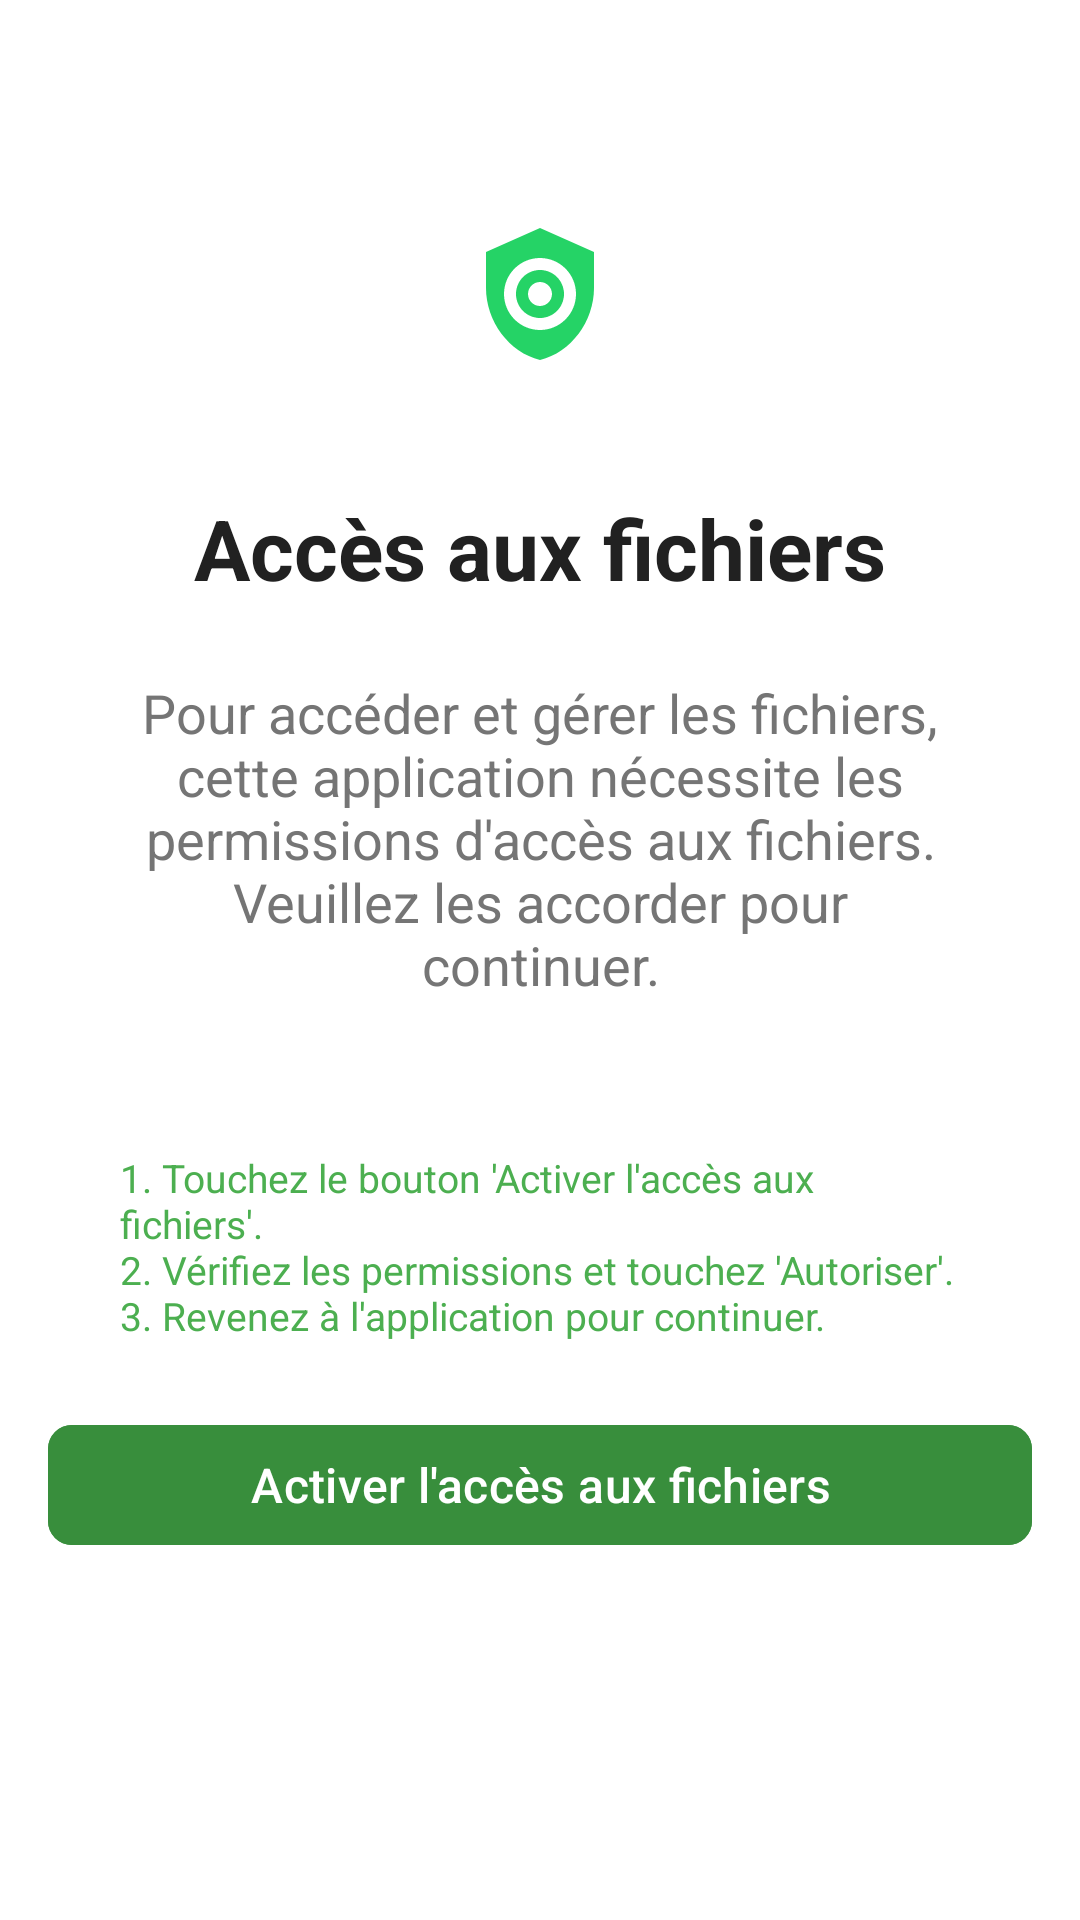

Screen size 1080x1920. Icon name, then its box in pixels as region(x1, y1, x2, y2):
icône de l'application: region(486, 228, 594, 360)
